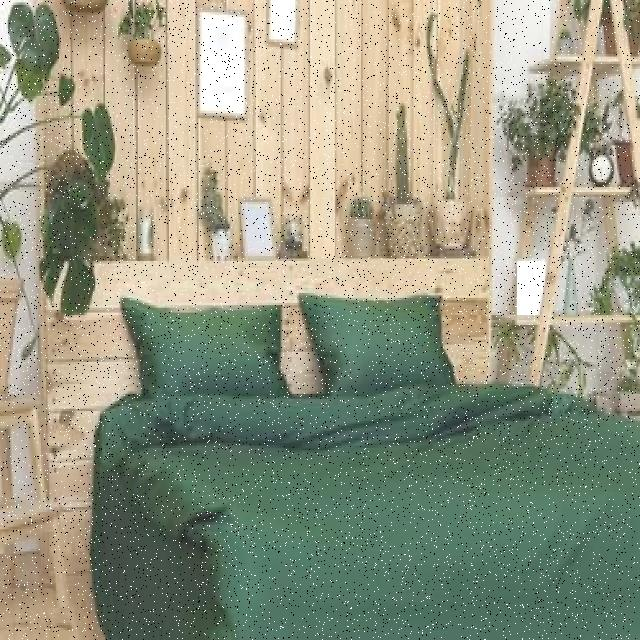bed: (100, 271, 640, 640)
